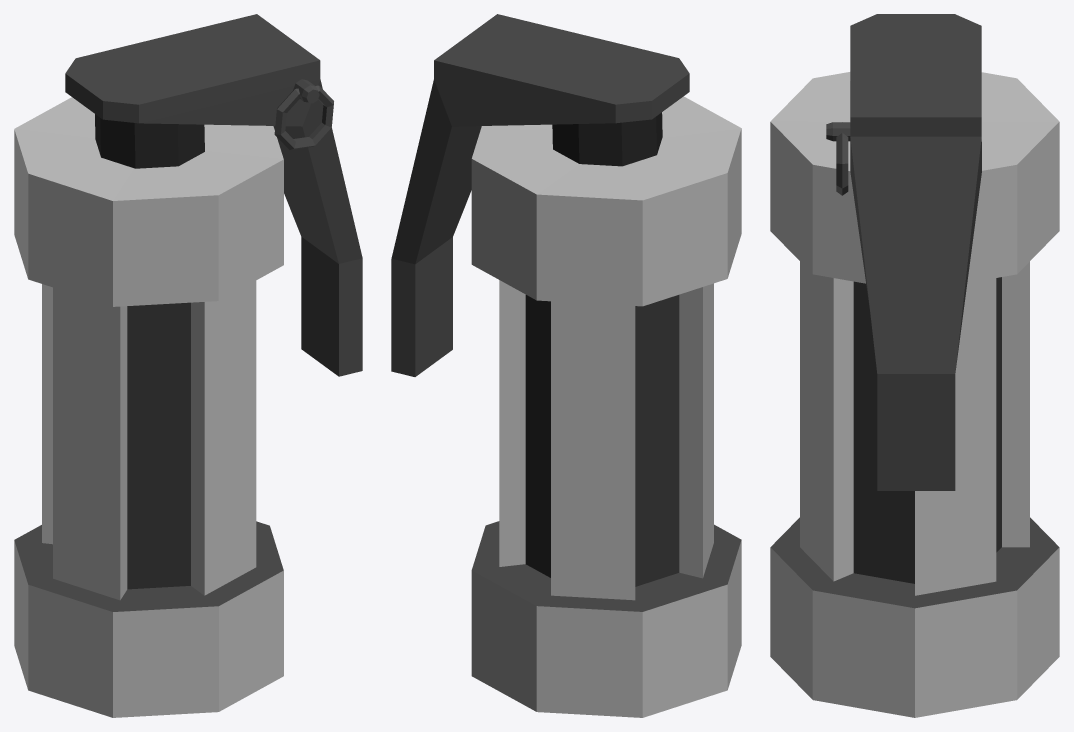
The model's file is Grenade_E_V2.FBX.
The picture shows the model from 3 angles, left to right: view 1: azimuth 30°, elevation 25°; view 2: azimuth 150°, elevation 25°; view 3: azimuth 270°, elevation 25°; orthographic projection. The views are drawn at different scales.
Parts seen in each view (by area): view 1: Grenade_E_V2; view 2: Grenade_E_V2; view 3: Grenade_E_V2.
Part boxes in pixels (x1,y1,x2,y2): Grenade_E_V2: (14, 14, 362, 717); Grenade_E_V2: (391, 14, 741, 717); Grenade_E_V2: (770, 14, 1059, 717).
Bounding box in the file's own units: 27.72 × 49.35 × 21.18.
